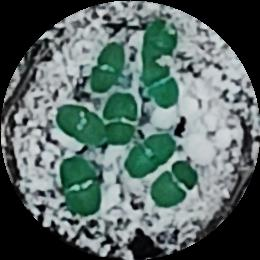Basil: (59, 159, 103, 213), (154, 159, 201, 207), (128, 132, 178, 177), (57, 104, 107, 147), (98, 95, 140, 146), (88, 43, 124, 94), (143, 64, 178, 110), (136, 21, 177, 59)
